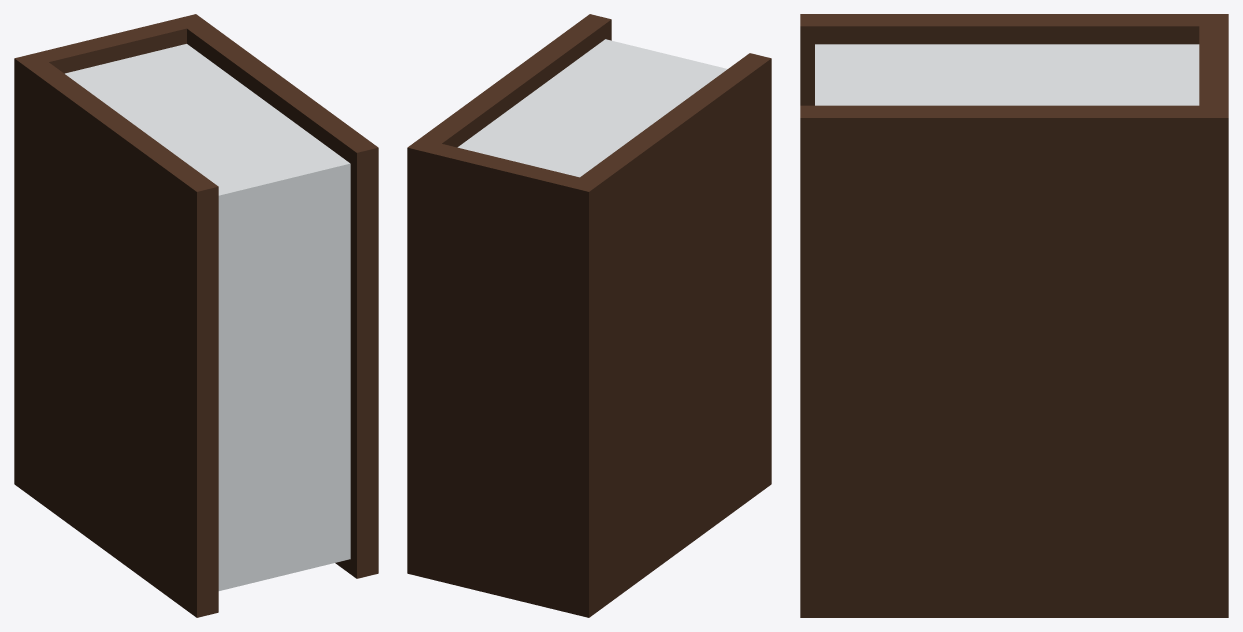
File: mage_off_0.gltf
The picture shows the model from 3 angles, left to right: view 1: azimuth 30°, elevation 25°; view 2: azimuth 150°, elevation 25°; view 3: azimuth 270°, elevation 25°; orthographic projection. The views are drawn at different scales.
Visible parts, largest first — view 1: mage_off_0; view 2: mage_off_0; view 3: mage_off_0.
Boxes of the visible parts, box(x1,y1,x2,y2) form: mage_off_0: box(14, 14, 378, 617); mage_off_0: box(407, 14, 771, 617); mage_off_0: box(800, 14, 1228, 617).
Bounding box in the file's own units: 0.25 × 0.56 × 0.435.
1 material, 1 textured.
